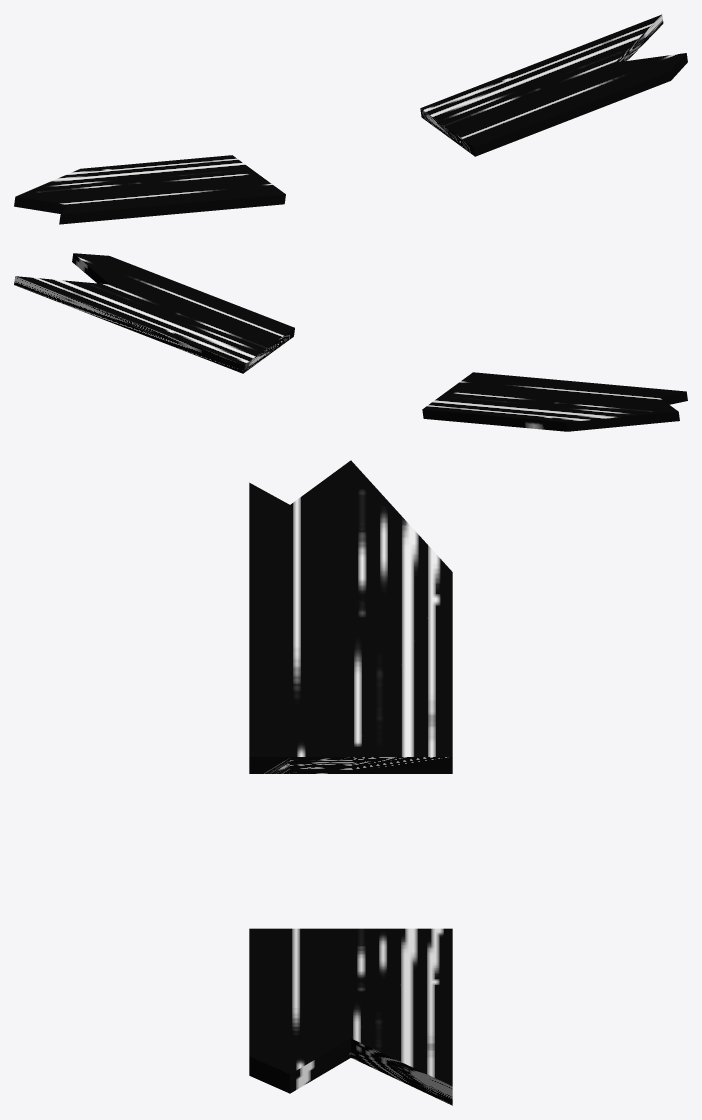
File: Wooden_003.fbx
3 renders of one model, top to bottom at view 1: azimuth 30°, elevation 25°; view 2: azimuth 150°, elevation 25°; view 3: azimuth 270°, elevation 25°, orthographic. The views are drawn at different scales.
Visible parts, largest first — view 1: Wooden_003; view 2: Wooden_003; view 3: Wooden_003.
Part boxes in pixels (bbox=[...]): Wooden_003: bbox=[14, 14, 687, 224]; Wooden_003: bbox=[14, 253, 687, 431]; Wooden_003: bbox=[249, 460, 452, 1105].
Size of the model in its own units: 72.84 by 4.86 by 10.
